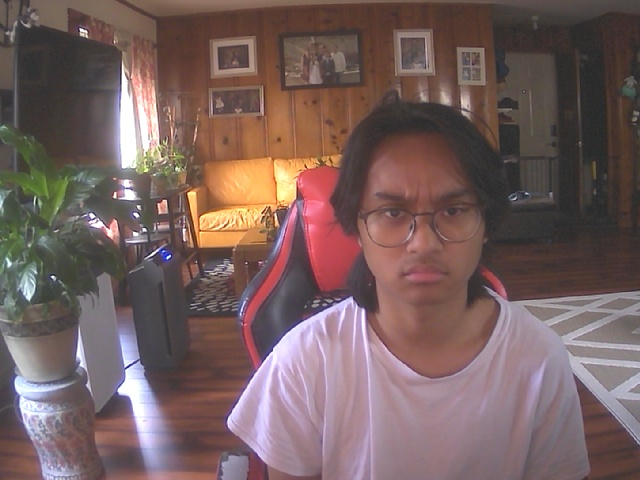anger: (353, 108, 501, 310)
